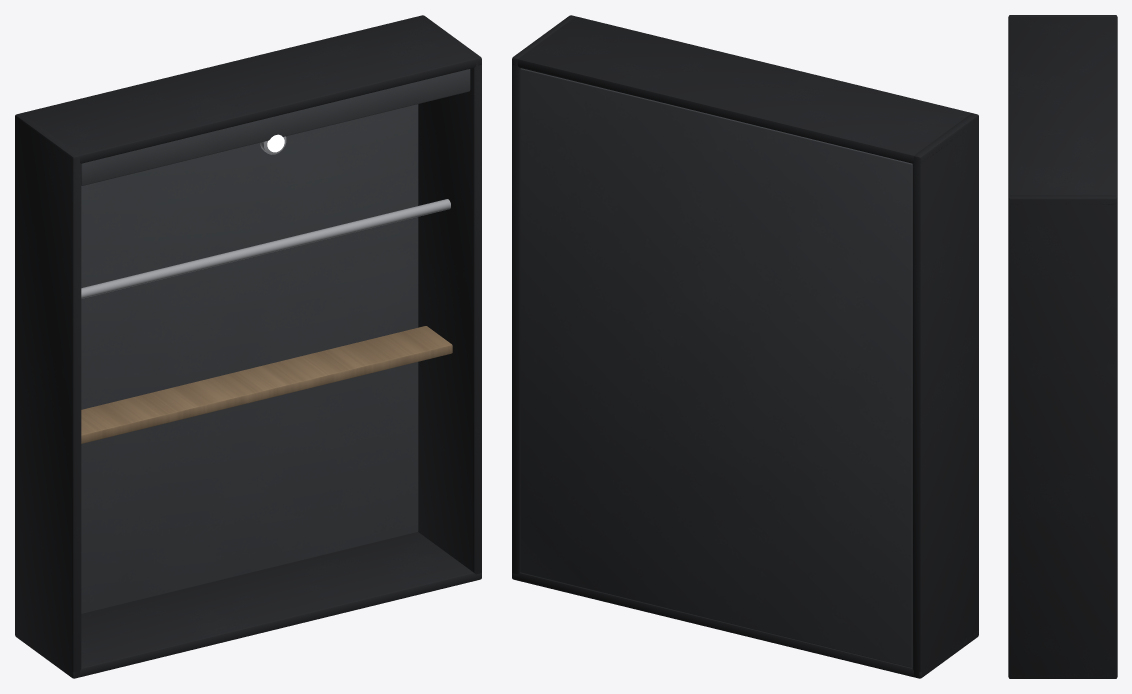
File: pf_display_golf_club_wall_t2.glb
3 views of the same model, side by side, from view 1: azimuth 30°, elevation 25°; view 2: azimuth 150°, elevation 25°; view 3: azimuth 270°, elevation 25° (orthographic). The views are drawn at different scales.
Parts seen in each view (by area): view 1: Case_Back, Case_Left, Case_Right, Case_Top, Case_Base, Club_Head_Tray_1, Header_Back, Club_Support_Rail_1; view 2: Case_Back, Case_Left, Case_Top, Case_Right, Case_Base; view 3: Case_Right, Case_Top, Case_Base, Case_Left.
Part boxes in pixels (<box>): Case_Back: <box>81,104,418,613</box>; Case_Left: <box>15,113,81,678</box>; Case_Right: <box>418,15,481,579</box>; Case_Top: <box>15,16,481,163</box>; Case_Base: <box>26,532,481,678</box>; Club_Head_Tray_1: <box>81,326,452,443</box>; Header_Back: <box>81,69,470,185</box>; Club_Support_Rail_1: <box>81,199,450,298</box>; Case_Back: <box>520,68,912,667</box>; Case_Left: <box>912,113,978,678</box>; Case_Top: <box>512,16,978,163</box>; Case_Right: <box>512,15,575,579</box>; Case_Base: <box>512,572,978,678</box>; Case_Right: <box>1008,195,1117,678</box>; Case_Top: <box>1008,15,1117,204</box>; Case_Base: <box>1009,674,1117,678</box>; Case_Left: <box>1008,15,1117,18</box>.
Size of the model in its own units: 1.6 by 1.95 by 0.4.
Materials: 6 (3 with a texture image).
